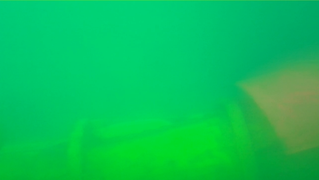leak: (236, 58, 319, 154)
pipe: (1, 98, 319, 180)
